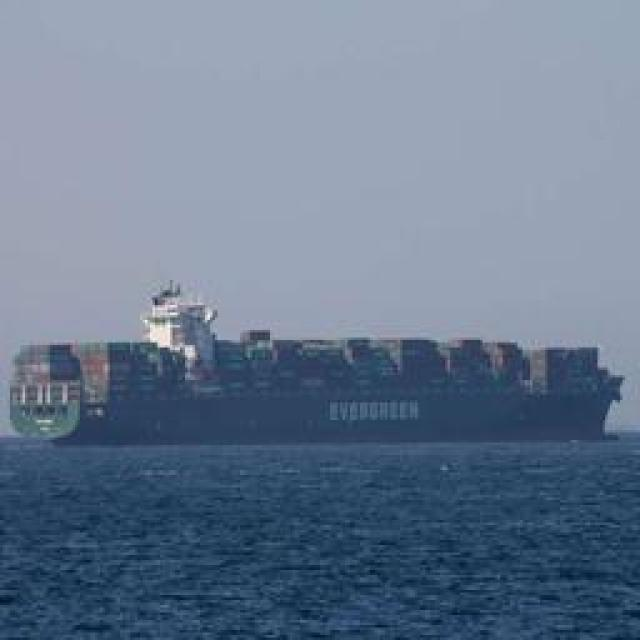Ship: (4, 297, 629, 447)
